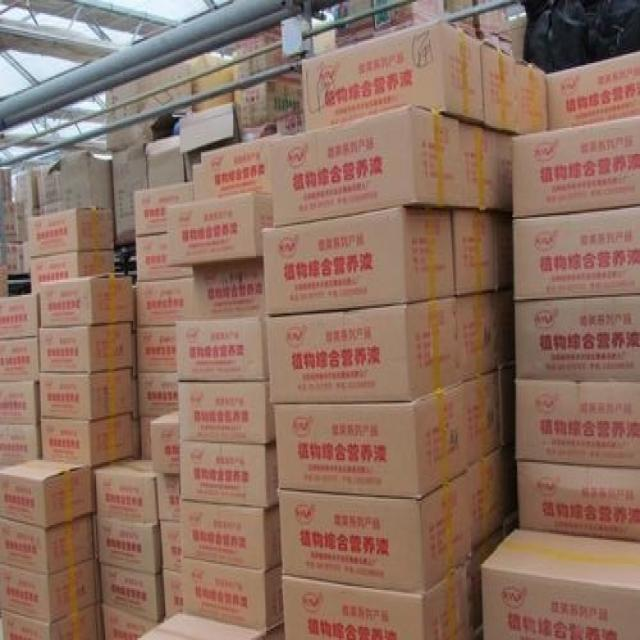box: (278, 469, 472, 594), (270, 104, 465, 228), (274, 382, 467, 501), (261, 206, 454, 317), (266, 297, 461, 406), (302, 20, 485, 130), (480, 527, 640, 640), (282, 557, 474, 640), (512, 115, 640, 217), (512, 206, 640, 302), (515, 378, 640, 467), (513, 297, 640, 380), (517, 460, 640, 544), (166, 193, 274, 267), (183, 557, 284, 631), (547, 52, 640, 130), (179, 501, 282, 571), (179, 440, 279, 508), (0, 458, 93, 531), (177, 380, 275, 445), (0, 558, 96, 623), (193, 134, 282, 202), (175, 317, 269, 380), (0, 512, 93, 575), (230, 65, 305, 143), (335, 0, 444, 50), (38, 367, 133, 421), (40, 412, 133, 466), (40, 273, 133, 326), (38, 321, 132, 373), (193, 256, 266, 321), (106, 104, 193, 158), (40, 150, 111, 215), (451, 2, 526, 61), (28, 208, 113, 260), (106, 58, 192, 108), (95, 456, 159, 523), (470, 525, 506, 640), (99, 562, 166, 623), (467, 445, 504, 555), (461, 369, 500, 471), (96, 516, 164, 573), (105, 82, 193, 126), (136, 610, 265, 640), (452, 211, 497, 297), (454, 293, 497, 382), (179, 100, 239, 163), (31, 249, 114, 293), (113, 143, 148, 245), (460, 121, 500, 208), (479, 41, 516, 134), (1, 605, 99, 640), (132, 184, 193, 236), (134, 234, 193, 282), (136, 278, 193, 326), (146, 134, 193, 191), (515, 59, 548, 134), (101, 603, 159, 640), (0, 291, 41, 339), (493, 130, 516, 215), (137, 325, 177, 371), (138, 371, 178, 416), (0, 425, 42, 467), (494, 289, 516, 369), (152, 408, 179, 473), (0, 382, 40, 425), (0, 338, 38, 382), (236, 48, 287, 80), (232, 24, 280, 58), (493, 213, 513, 289), (498, 364, 516, 445), (192, 65, 237, 96), (14, 169, 41, 219), (40, 156, 61, 215), (160, 523, 184, 573), (0, 239, 31, 276), (157, 471, 179, 523), (0, 202, 26, 241), (163, 570, 184, 618), (192, 54, 230, 78), (193, 91, 234, 113), (444, 0, 494, 15), (138, 416, 152, 460), (265, 621, 285, 640), (133, 416, 141, 458), (132, 378, 140, 417), (0, 265, 9, 297), (132, 332, 138, 378)
